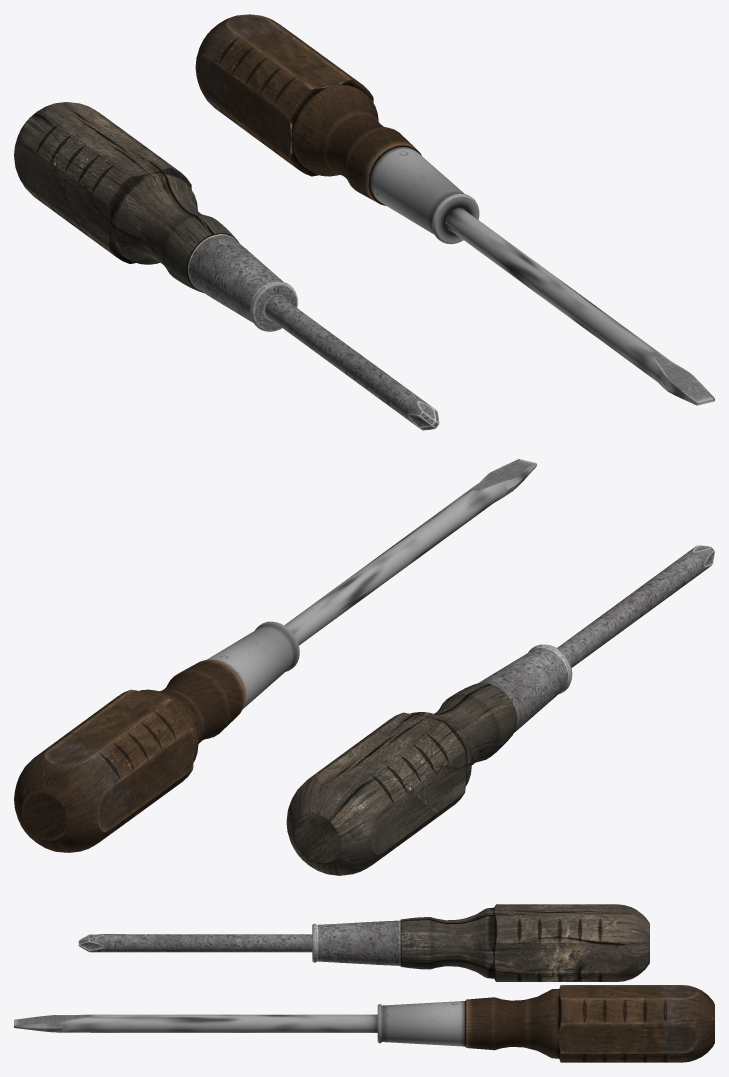
The model's file is screwdrivers_02.fbx.
3 renders of one model, top to bottom at view 1: azimuth 30°, elevation 25°; view 2: azimuth 150°, elevation 25°; view 3: azimuth 270°, elevation 25°, orthographic. The views are drawn at different scales.
Parts seen in each view (by area): view 1: screwdrivers_02_a, screwdrivers_02_b; view 2: screwdrivers_02_a, screwdrivers_02_b; view 3: screwdrivers_02_a, screwdrivers_02_b.
Part boxes in pixels (bbox=[...]): screwdrivers_02_a: bbox=[195, 14, 714, 405]; screwdrivers_02_b: bbox=[14, 102, 439, 430]; screwdrivers_02_a: bbox=[14, 459, 536, 852]; screwdrivers_02_b: bbox=[286, 545, 714, 875]; screwdrivers_02_a: bbox=[14, 985, 714, 1062]; screwdrivers_02_b: bbox=[78, 904, 649, 981].
Bounding box in the file's own units: 10.05 × 2.71 × 26.99.
